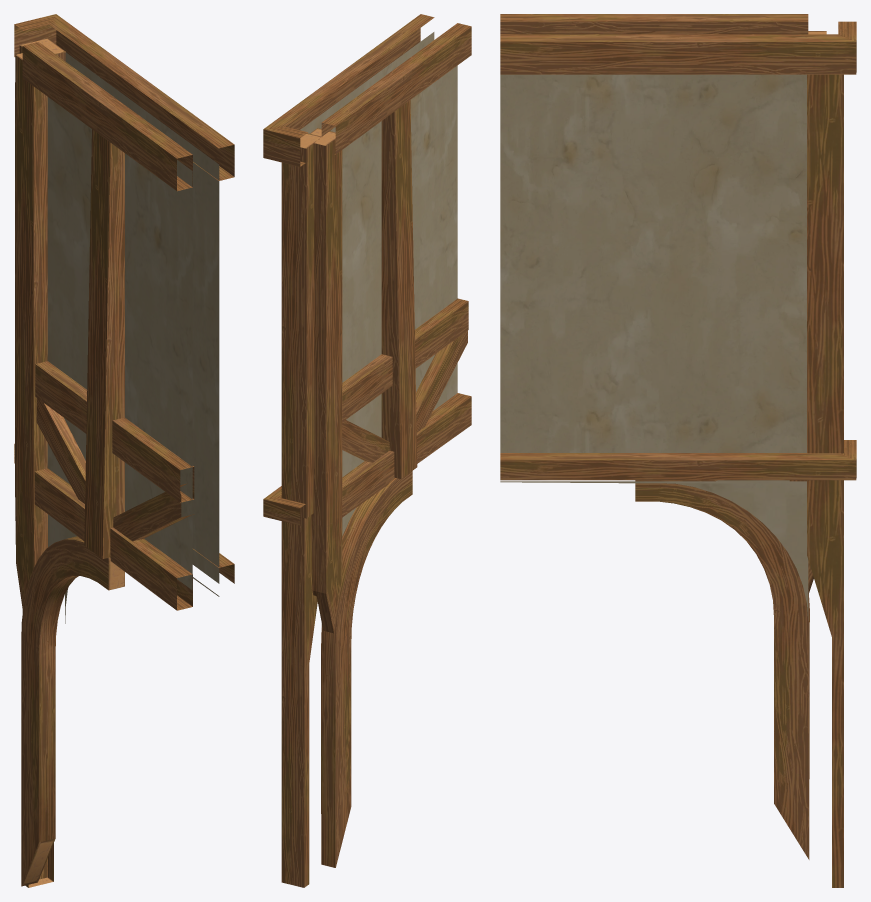
File: Overhang_Side_Plaster_Long_L.glb
3 views of the same model, side by side, from view 1: azimuth 30°, elevation 25°; view 2: azimuth 150°, elevation 25°; view 3: azimuth 270°, elevation 25° (orthographic). The views are drawn at different scales.
Parts seen in each view (by area): view 1: Overhang_Side_Plaster_Long_L; view 2: Overhang_Side_Plaster_Long_L; view 3: Overhang_Side_Plaster_Long_L.
Part boxes in pixels (x1,y1,x2,y2): Overhang_Side_Plaster_Long_L: [14, 14, 234, 887]; Overhang_Side_Plaster_Long_L: [263, 14, 471, 887]; Overhang_Side_Plaster_Long_L: [500, 14, 856, 887].
Size of the model in its own units: 0.4794 by 6.12 by 2.31.
2 materials, 2 textured.
